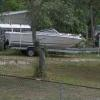Boat: (2, 24, 85, 57)
